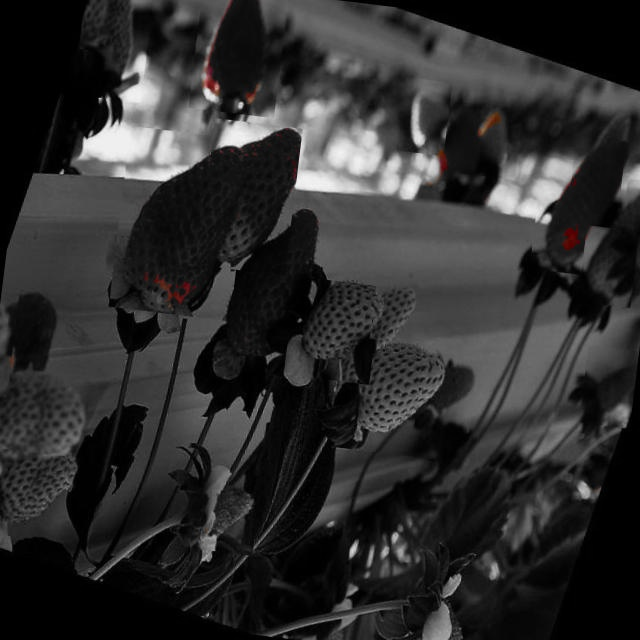ripe: (108, 124, 252, 320), (204, 188, 330, 372), (197, 117, 302, 275), (187, 0, 288, 118), (529, 156, 613, 277), (0, 287, 68, 413), (428, 99, 494, 194), (567, 134, 626, 216)
unripe: (334, 325, 456, 459), (0, 364, 91, 492), (284, 276, 381, 384), (68, 0, 155, 102), (0, 446, 69, 541), (190, 468, 262, 556), (458, 102, 524, 180), (577, 225, 639, 308), (578, 344, 638, 428), (414, 354, 477, 433), (398, 76, 452, 156), (369, 274, 418, 344), (613, 198, 640, 296), (78, 0, 119, 52), (0, 288, 19, 397), (621, 178, 640, 236)
